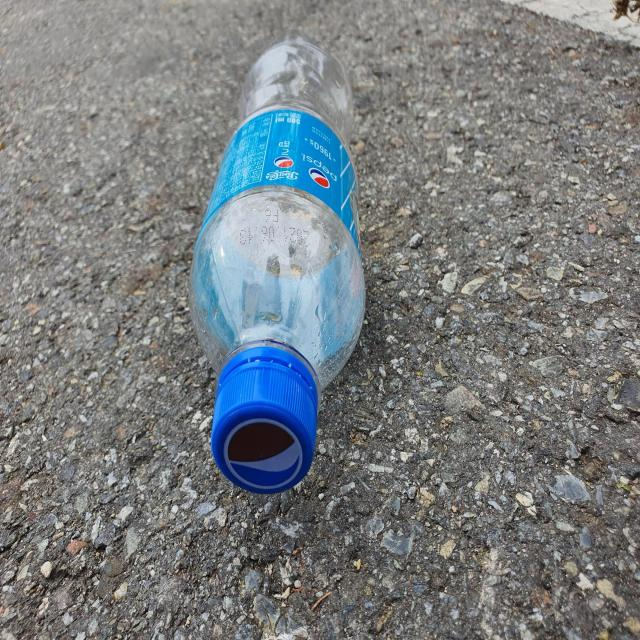plastic: (189, 33, 365, 494)
